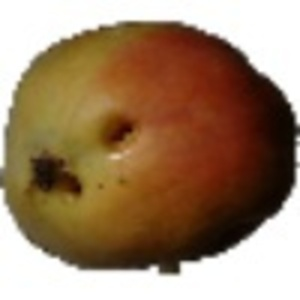mamão: (3, 17, 295, 278)
